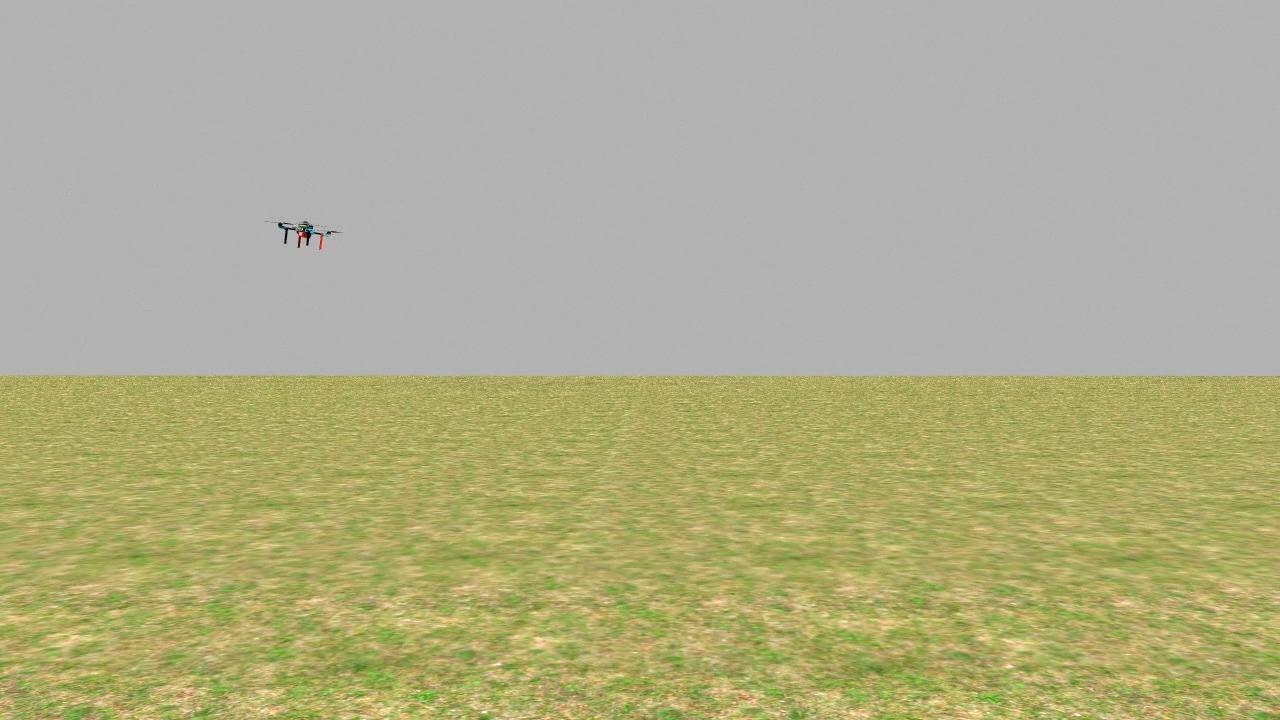UAV: (267, 206, 342, 255)
